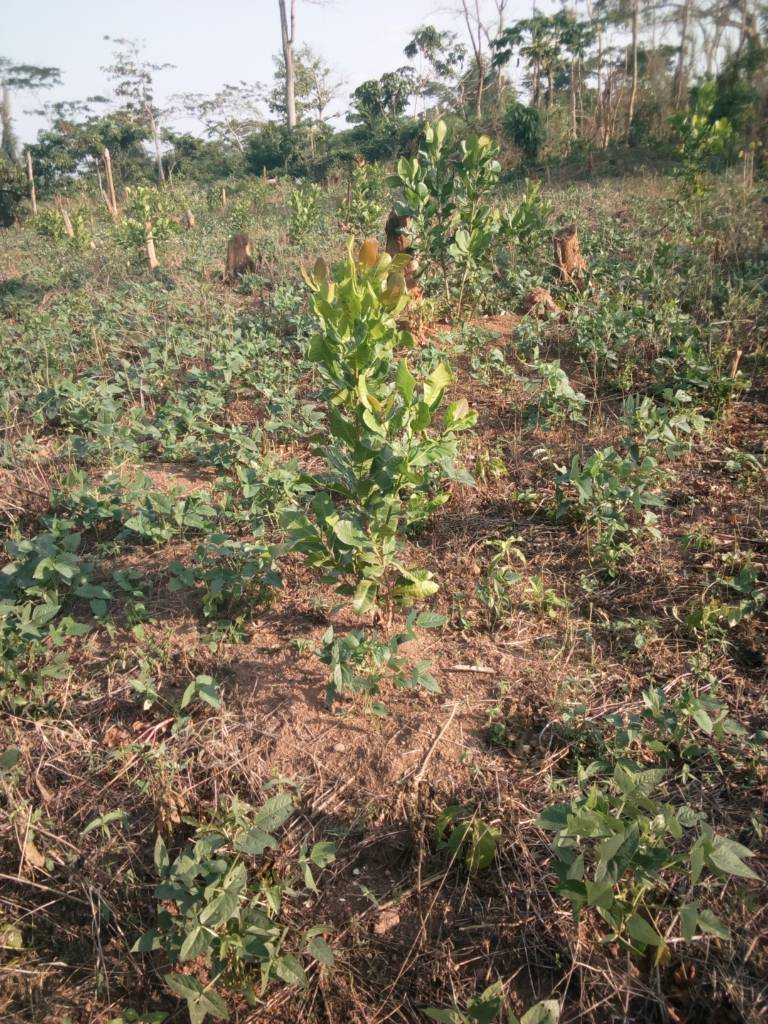Termites: (554, 233, 583, 261)
